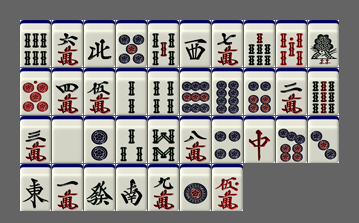0m: (212, 164, 243, 211)
0p: (20, 68, 51, 115)
0s: (276, 20, 307, 67)
1m: (52, 164, 83, 211)
1p: (180, 164, 211, 211)
1s: (308, 20, 339, 67)
1z: (20, 164, 51, 211)
2m: (276, 68, 307, 115)
2p: (84, 116, 115, 163)
2s: (116, 68, 147, 115)
2z: (116, 164, 147, 211)
3m: (20, 116, 51, 163)
3p: (308, 116, 339, 163)
3s: (116, 116, 147, 163)
3z: (180, 20, 211, 67)
4m: (52, 68, 83, 115)
4p: (212, 116, 243, 163)
4s: (148, 68, 179, 115)
4z: (84, 20, 115, 67)
5m: (84, 68, 115, 115)
5p: (116, 20, 147, 67)
5s: (148, 20, 179, 67)
5z: (52, 116, 83, 163)
6m: (52, 20, 83, 67)
6p: (244, 68, 275, 115)
6s: (20, 20, 51, 67)
6z: (84, 164, 115, 211)
7m: (212, 20, 243, 67)
7p: (276, 116, 307, 163)
7s: (244, 20, 275, 67)
7z: (244, 116, 275, 163)
8m: (180, 116, 211, 163)
8p: (212, 68, 243, 115)
8s: (148, 116, 179, 163)
9m: (148, 164, 179, 211)
9p: (180, 68, 211, 115)
9s: (308, 68, 339, 115)
